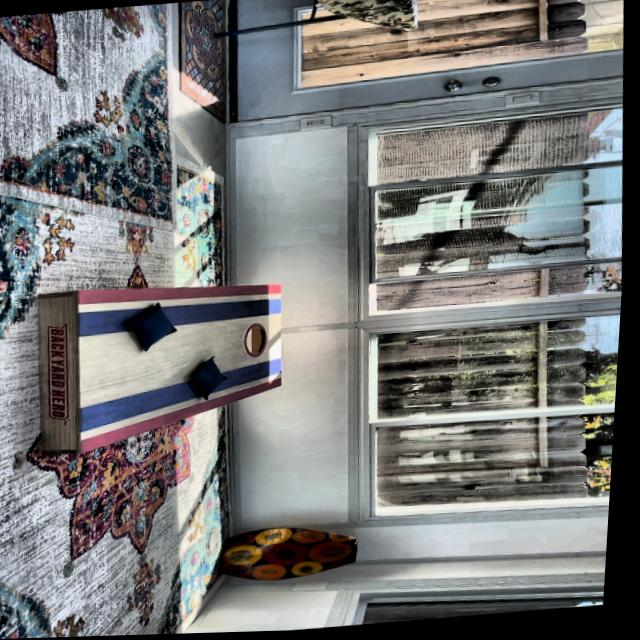blue-bean-bag: (130, 300, 184, 354), (193, 355, 237, 402)
board: (78, 281, 293, 418)
hole: (247, 323, 275, 359)
